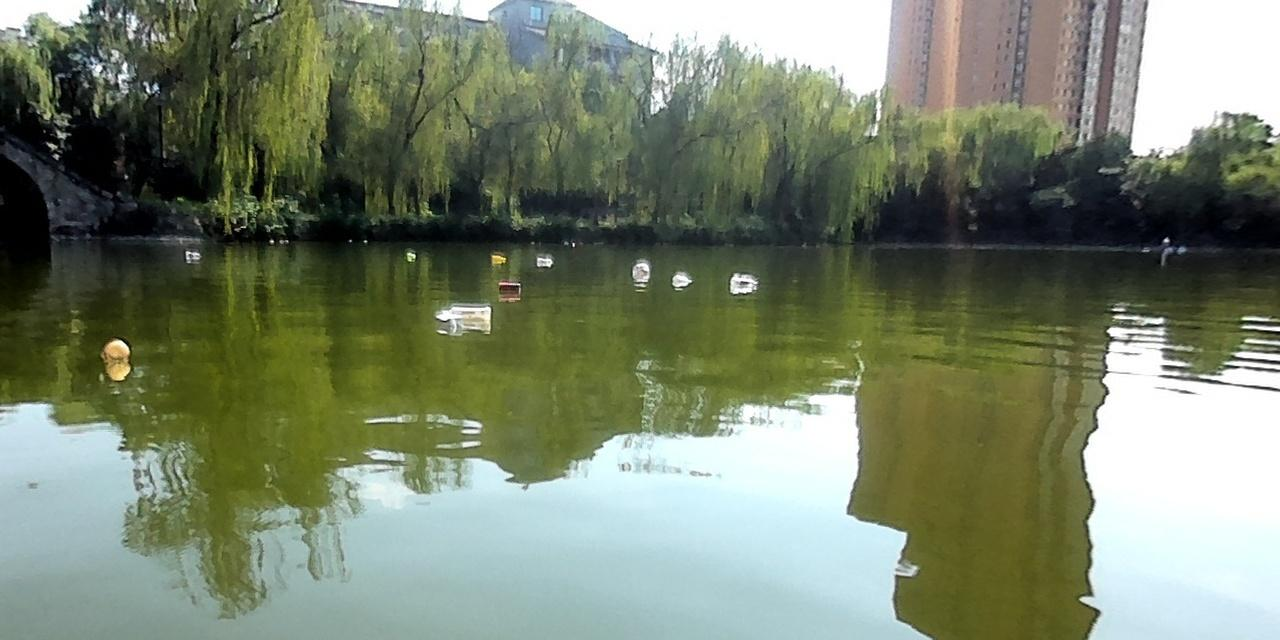bottle: (433, 303, 492, 323), (96, 337, 133, 365), (729, 274, 758, 290), (494, 279, 521, 294), (630, 260, 650, 279), (183, 247, 201, 263), (488, 253, 508, 264), (534, 256, 553, 267), (671, 272, 687, 285), (403, 250, 417, 260)
